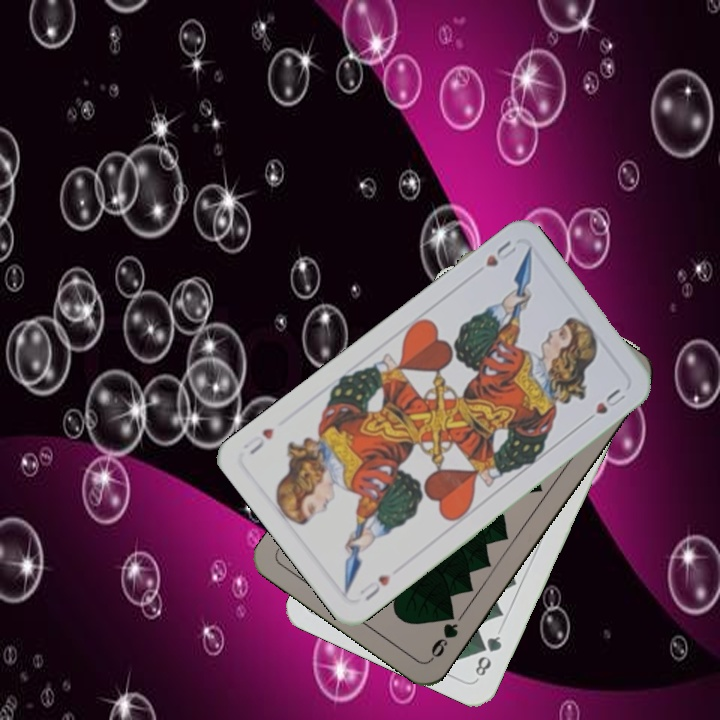G8: (471, 631, 504, 679)
G9: (426, 606, 461, 663)
HU: (355, 570, 394, 604), (481, 236, 520, 270)
